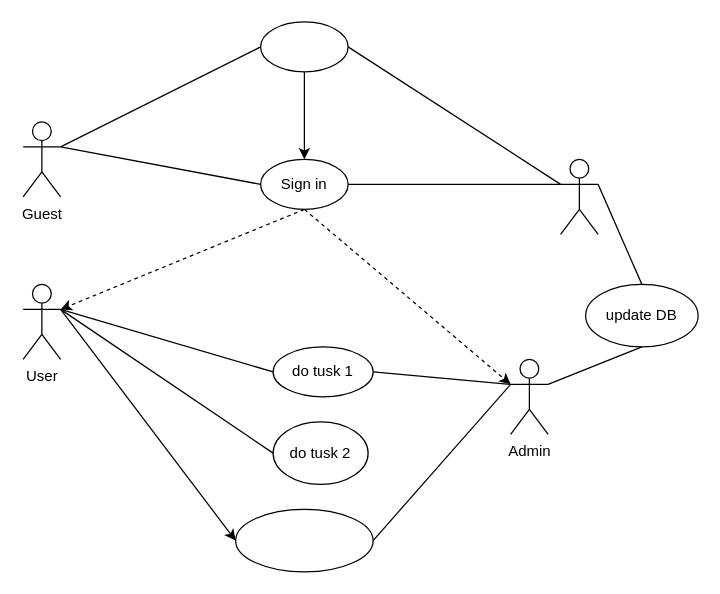
Some shapes in this 720 by 594 pixel diagram are drawn without their labels. Here are the shapes that lost their labels. From the top down, the box of each, then its label:
(259, 21, 348, 72): Sign up
(559, 158, 598, 234): Server
(234, 508, 373, 572): look for my stat
